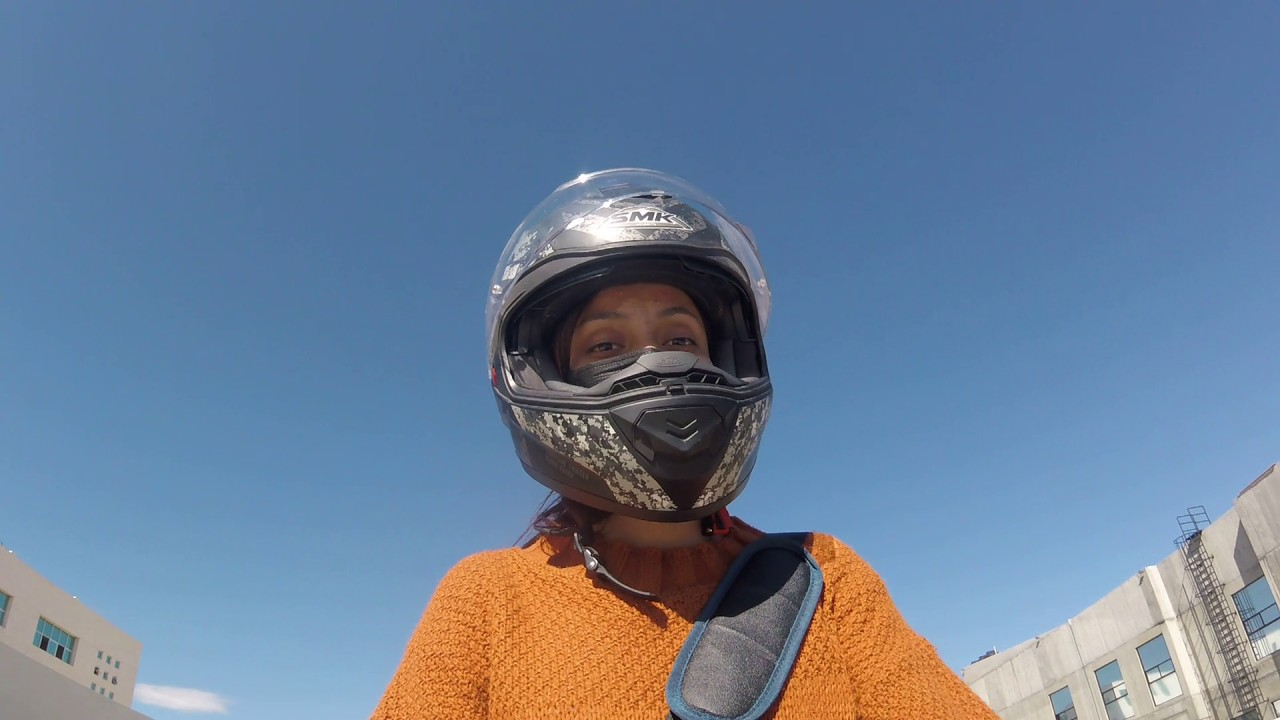With Helmet: (474, 162, 791, 536)
